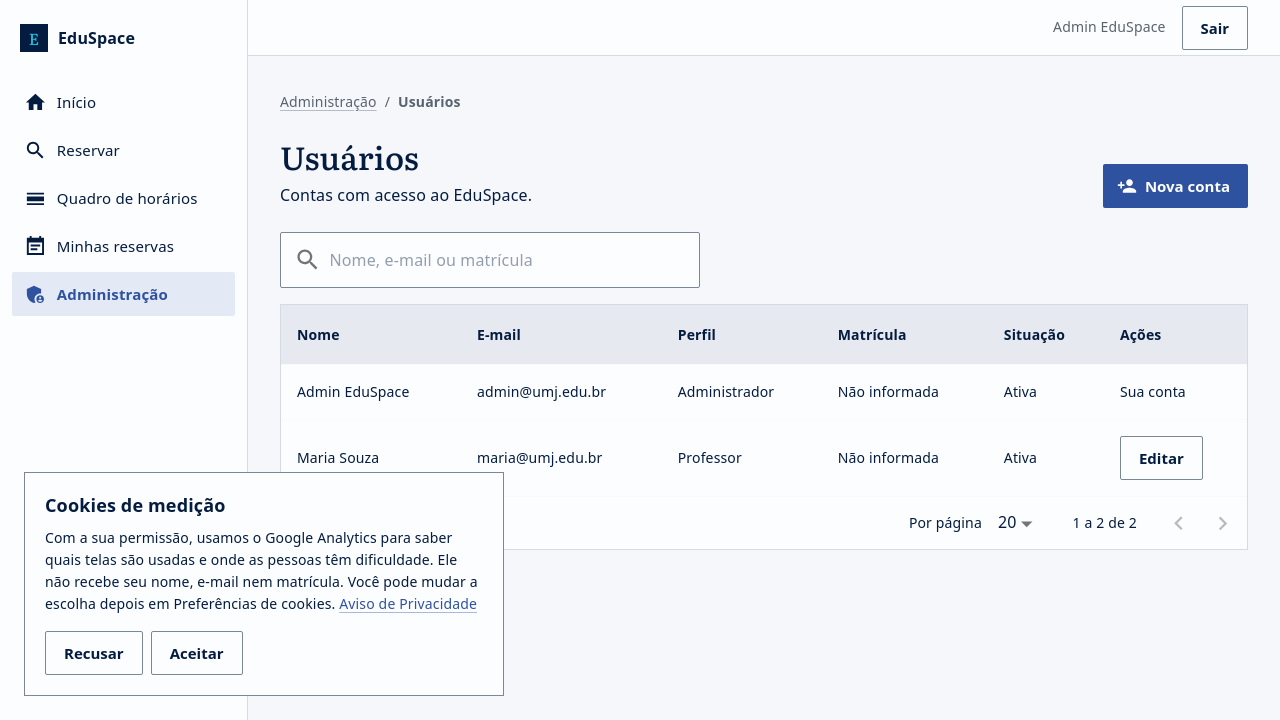
Test case: admin users › asks for confirmation before deactivating an account
The width and height of the screenshot is (1280, 720).
Click the button with aria-label "Editar Maria Souza". click: (1161, 458)
box: [1120, 436, 1203, 480]
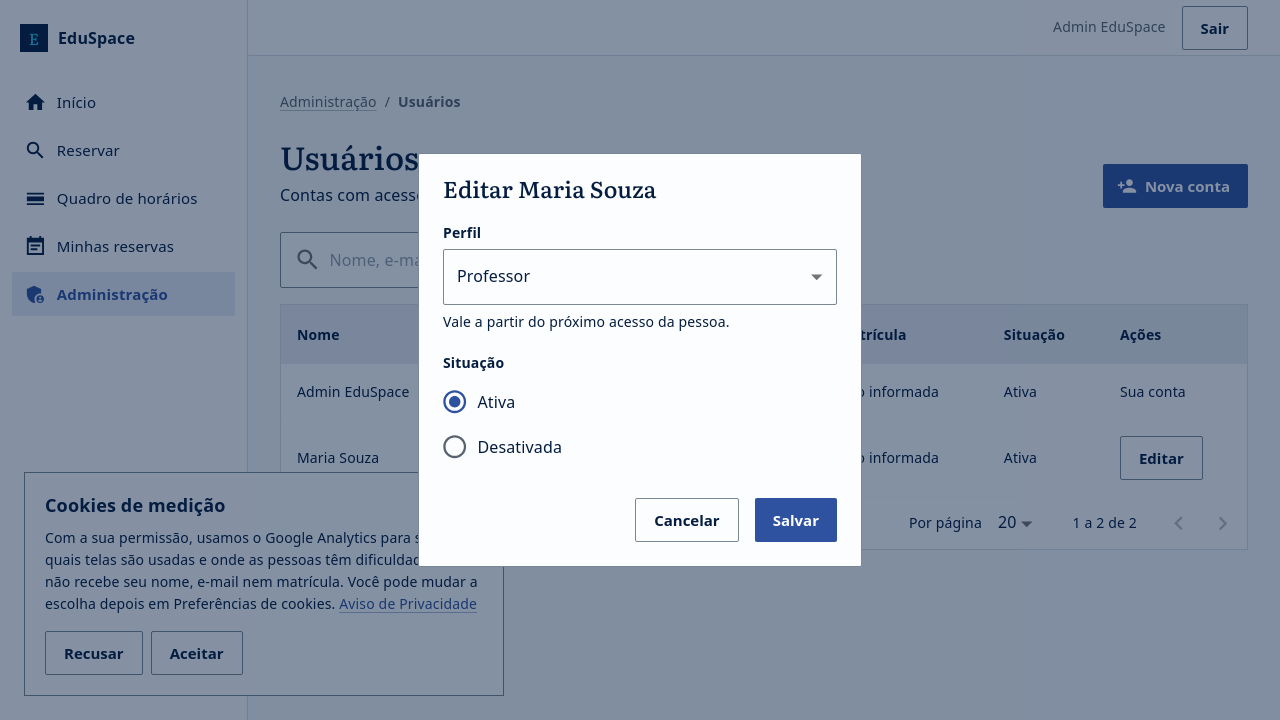
Click the radio button labelled "Desativada". click: (502, 447)
box: [441, 433, 562, 461]
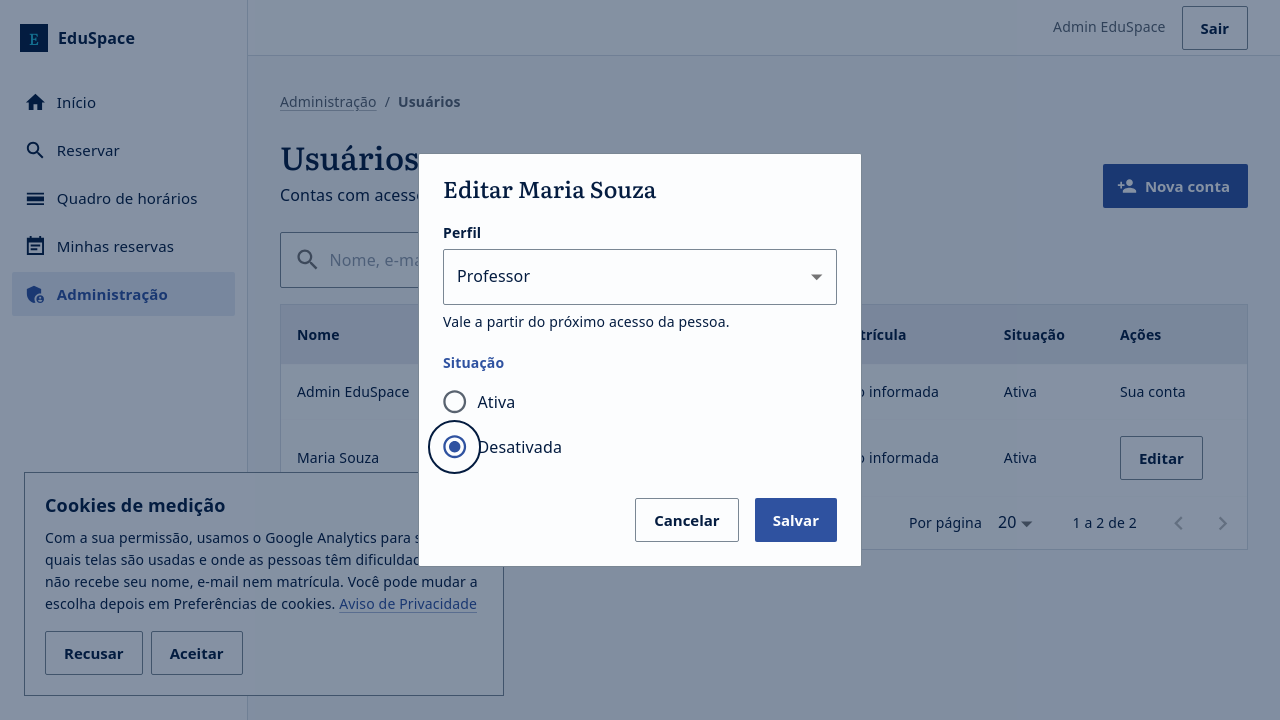
Click the button "Salvar". click: (796, 520)
box: [755, 498, 837, 542]
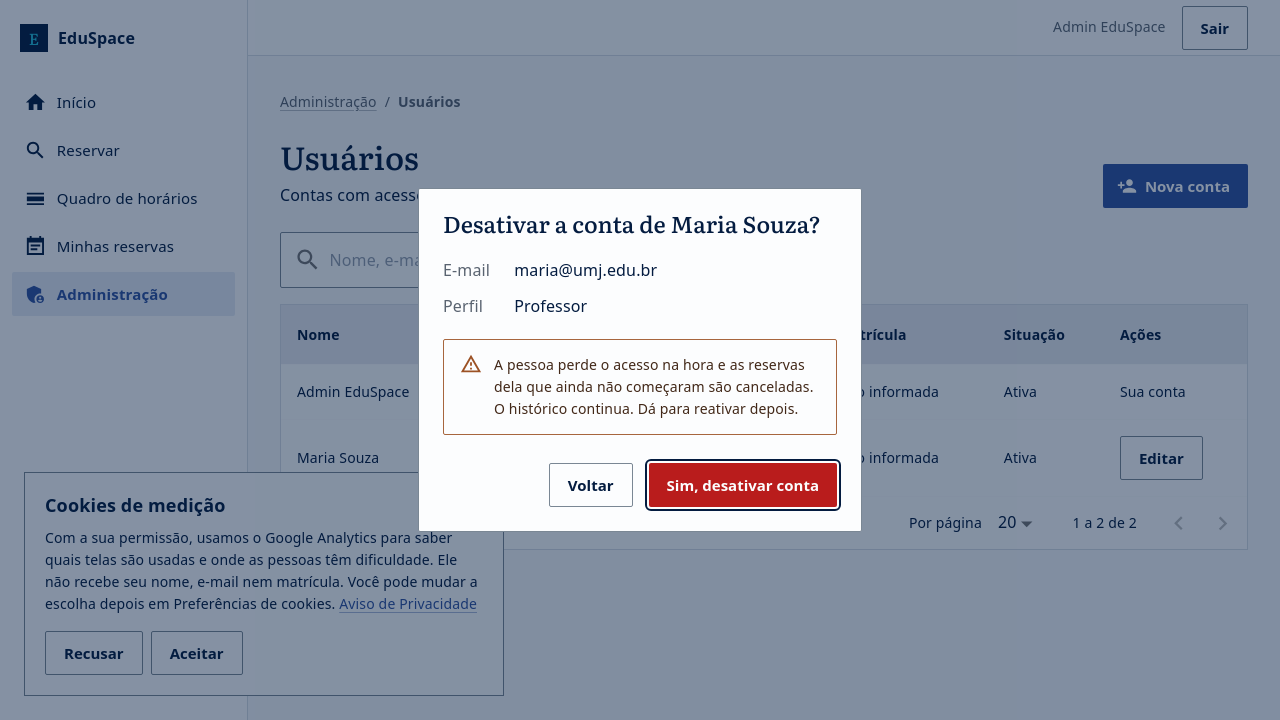
Result: the dialog "Desativar a conta de Maria Souza?" shows "perde o acesso na hora" at [494, 355, 814, 418]
Click the button "Sim, desativar conta". click: (743, 485)
box: [649, 463, 837, 507]
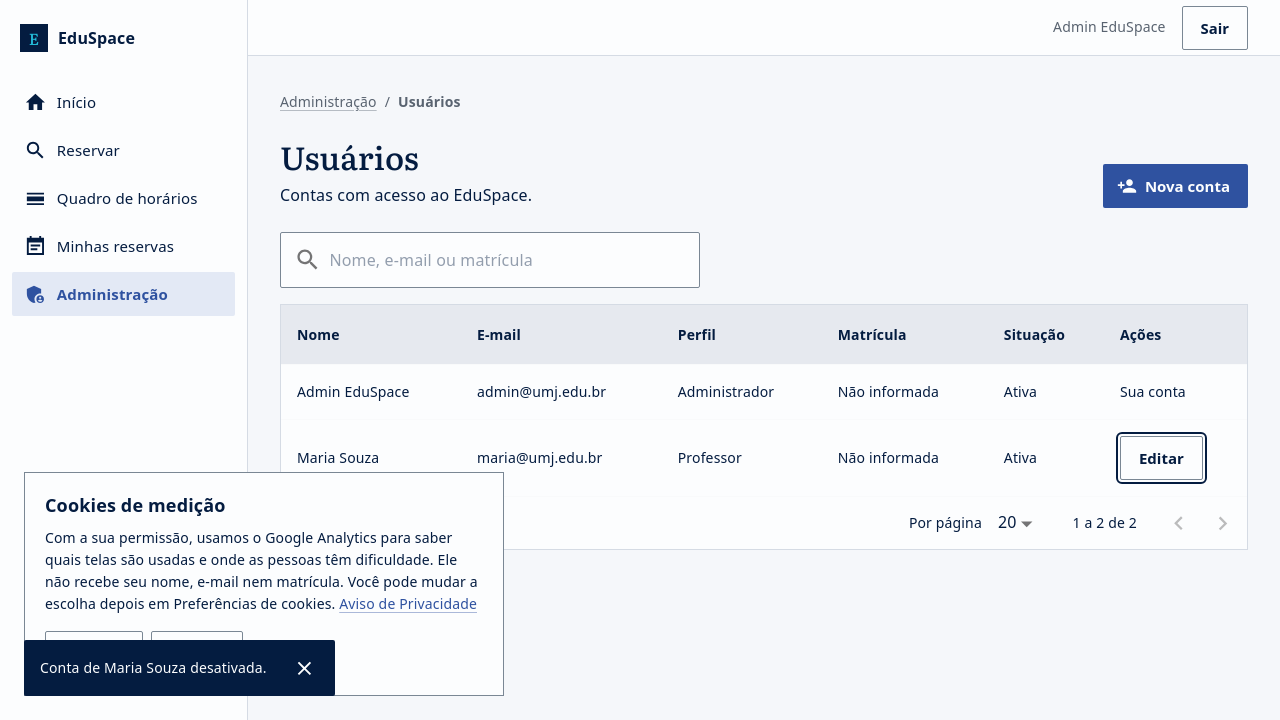
Result: the dialog is gone
Result: the message reads "Conta de Maria Souza desativada." at [40, 658, 267, 677]
